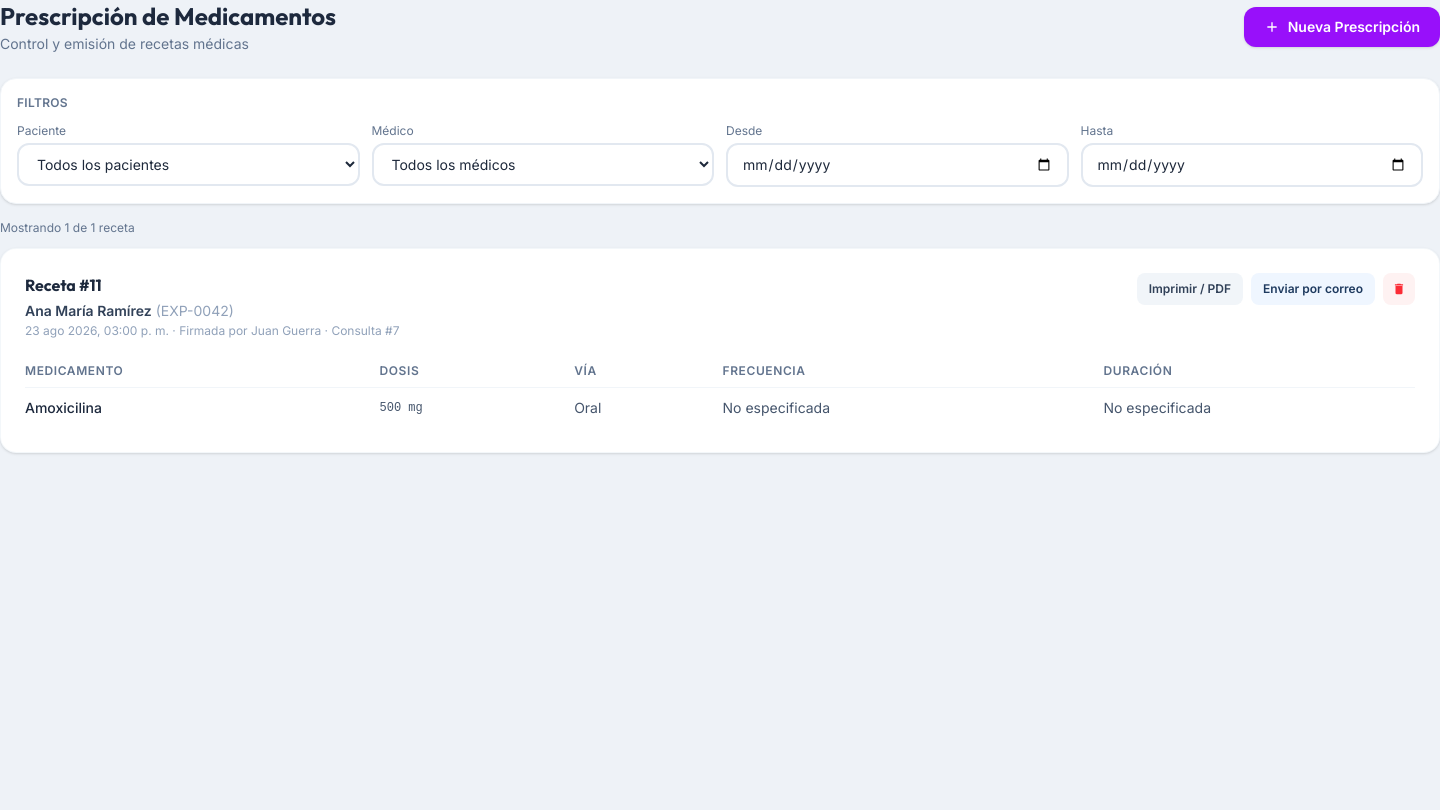
Test: recetas · anulación › deja la tarjeta vigente si la anulación falla, y muestra el motivo
Expected: the heading "Receta #11" is shown, [25,275,102,295]
Click the button named "anular la receta 11" at (1399, 289), box [1383,273,1415,305]
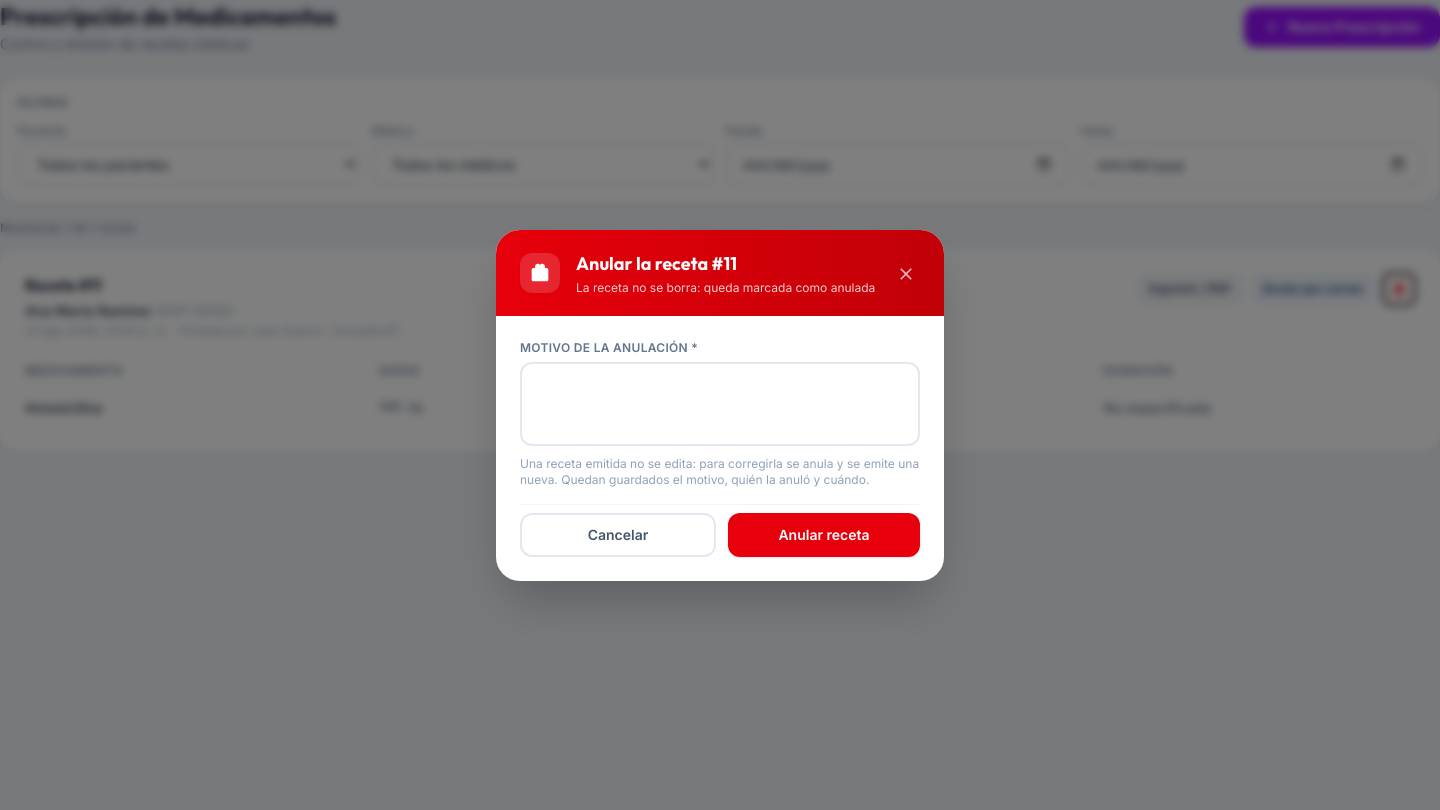
Type "Error al elegir el medicamento" into the text box labelled "Motivo de la anulación *" at (720, 404), box [520,362,920,446]
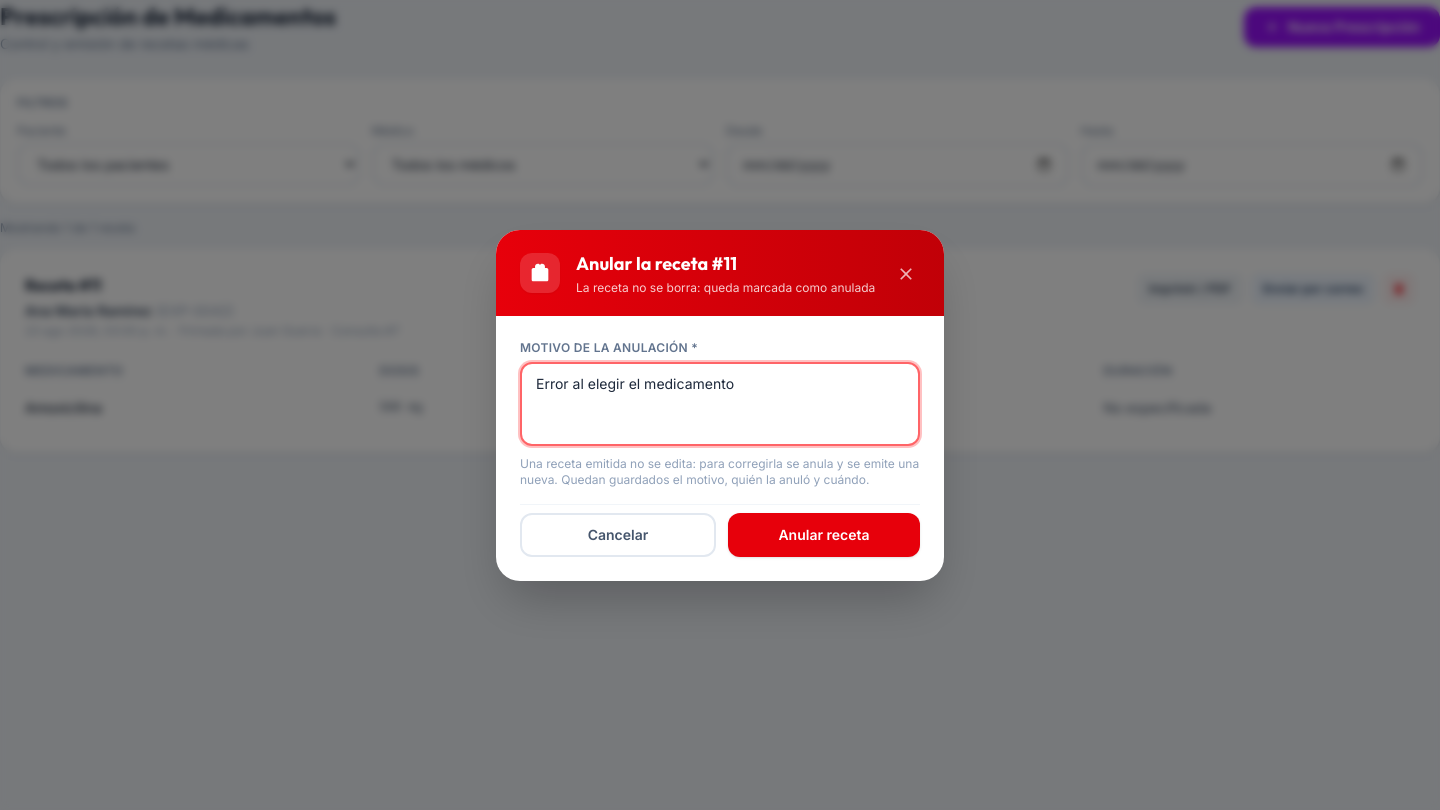
Click the button "Anular receta" at (824, 534), box [728,512,920,556]
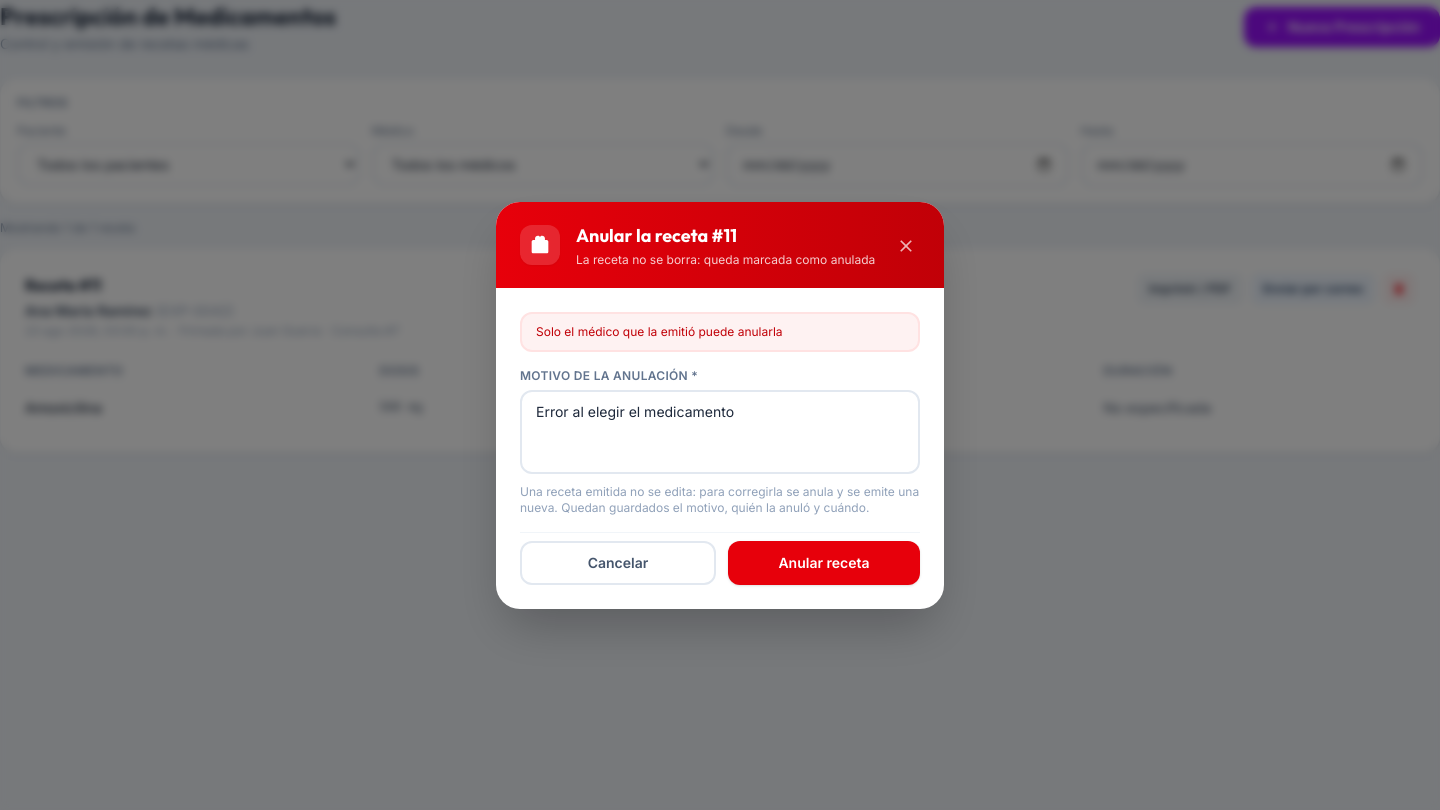
Expected: the heading "Receta #11" is shown, [25,275,102,295]
Result: the message reads "Solo el médico que la emitió puede anularla" at [536,324,783,338]
